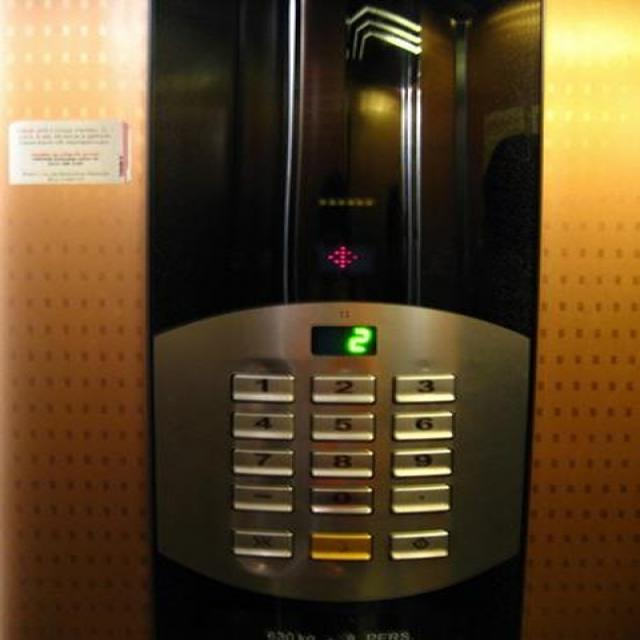-: (228, 482, 295, 513), (388, 481, 451, 513)
0: (307, 484, 373, 515)
1: (227, 369, 294, 404)
2: (308, 371, 376, 404)
3: (390, 371, 458, 403)
4: (225, 408, 295, 440)
5: (306, 409, 374, 442)
6: (388, 408, 456, 441)
7: (229, 445, 295, 477)
8: (305, 446, 375, 478)
9: (389, 446, 452, 477)
alarm: (307, 530, 373, 562)
close: (230, 524, 294, 560)
led: (311, 325, 376, 355)
open: (385, 528, 451, 560)
